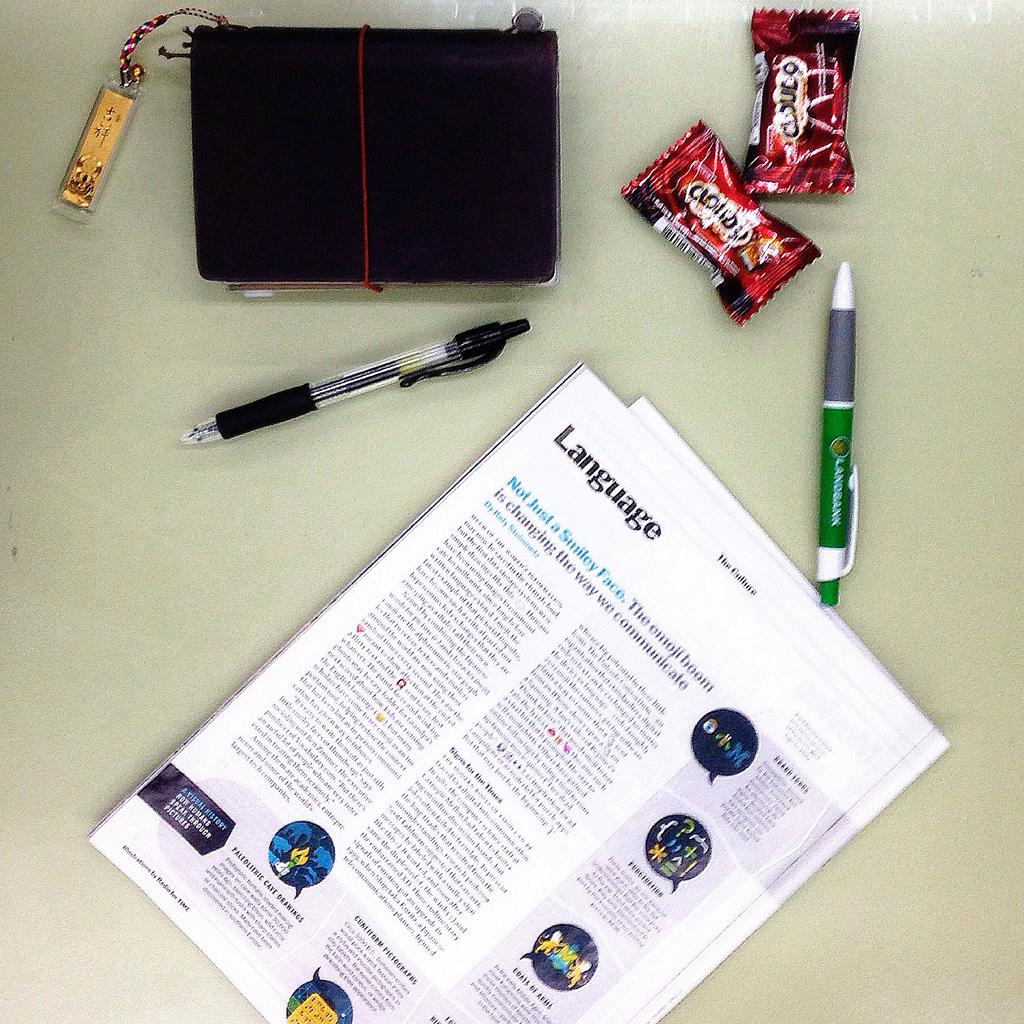pen: (168, 310, 531, 447), (814, 258, 863, 614)
